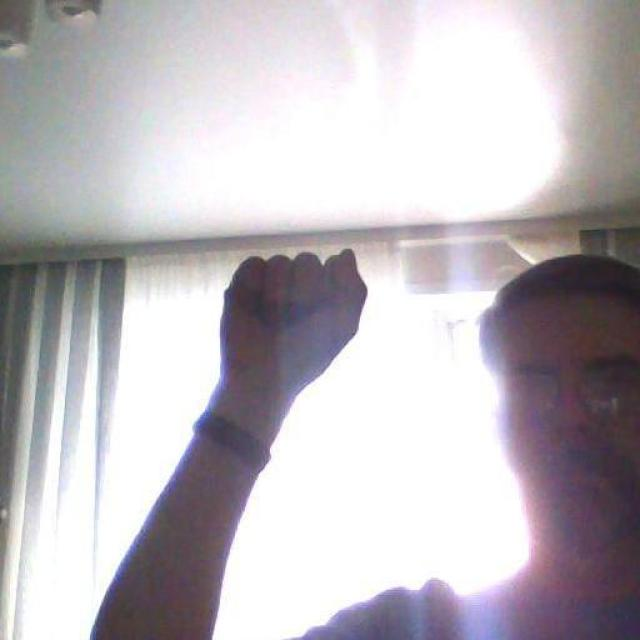hand: (198, 247, 368, 452)
